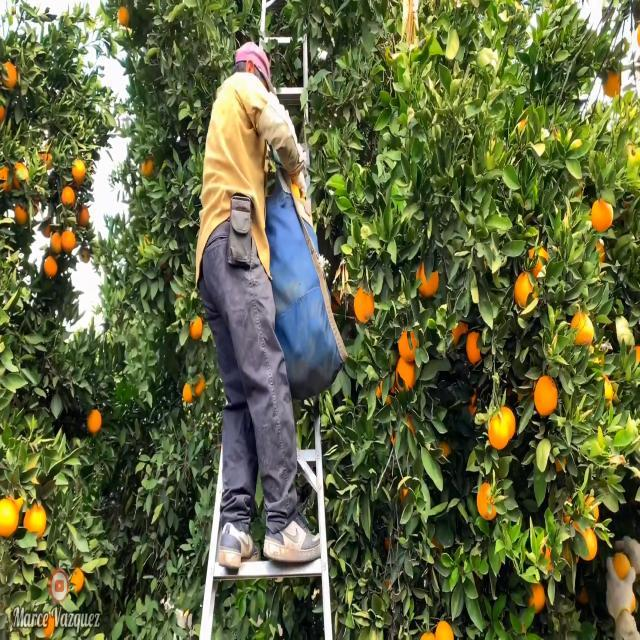Jeruk Sudah Matang: (533, 372, 560, 420), (568, 306, 596, 350), (0, 489, 23, 542), (513, 268, 541, 311), (590, 192, 616, 235), (22, 498, 48, 541), (415, 255, 440, 298), (488, 405, 511, 451), (397, 324, 423, 364), (476, 479, 500, 522), (576, 520, 599, 564), (352, 283, 376, 324), (395, 356, 418, 396), (466, 328, 486, 367), (526, 574, 546, 613), (0, 60, 20, 90), (70, 157, 88, 190), (432, 615, 455, 640), (180, 374, 197, 407), (68, 565, 85, 595), (86, 405, 102, 435), (188, 314, 204, 342), (60, 226, 76, 254), (50, 229, 64, 259), (76, 203, 92, 228), (42, 254, 58, 278), (12, 202, 28, 226), (60, 185, 76, 208)
